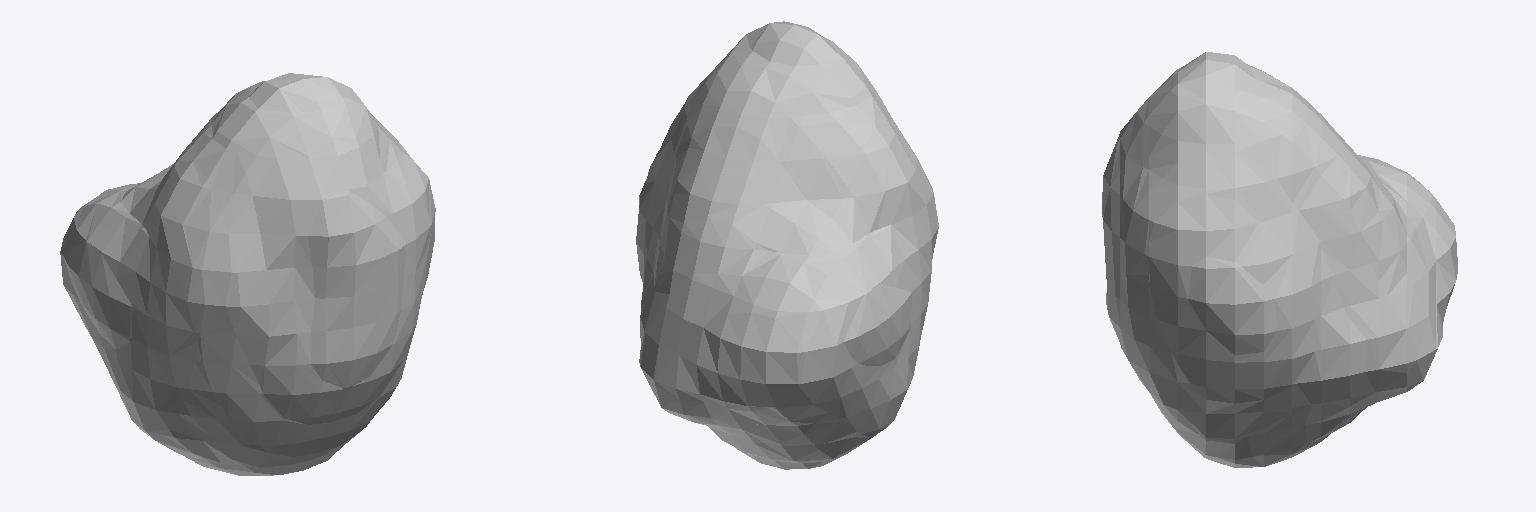
The model's file is 2btd_cms.obj.
3 renders of one model, left to right at view 1: azimuth 30°, elevation 25°; view 2: azimuth 150°, elevation 25°; view 3: azimuth 270°, elevation 25°, orthographic.
Bounding box in the file's own units: 45.56 × 61.25 × 49.14.